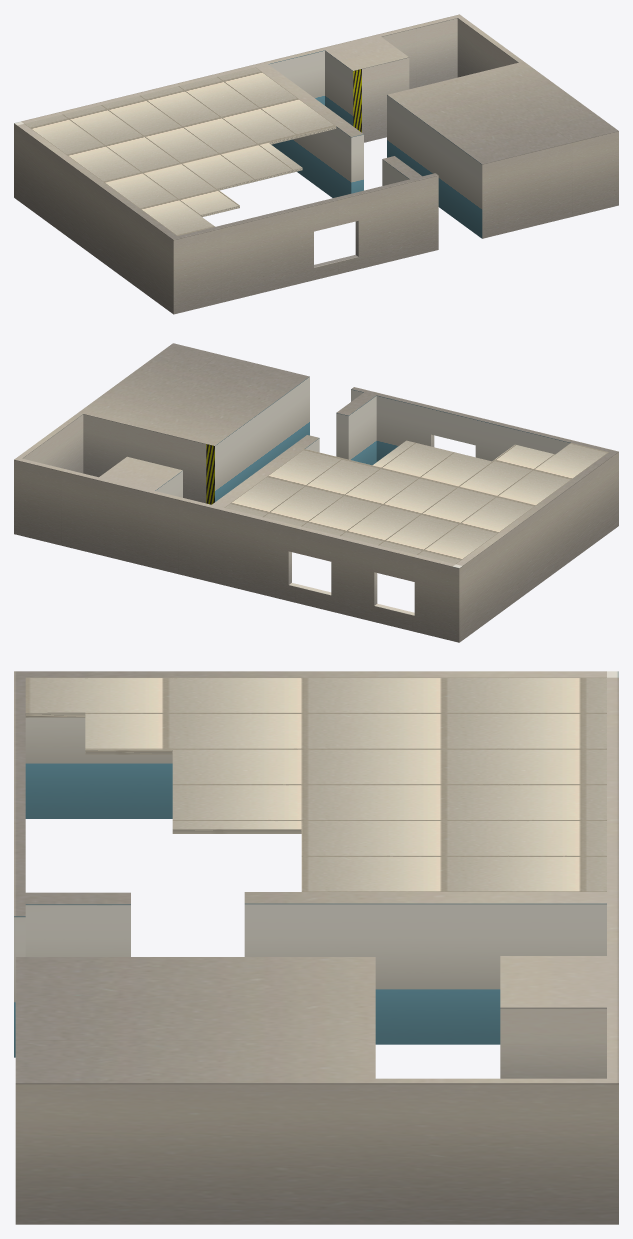
The model's file is Laboratory.FBX.
The picture shows the model from 3 angles, top to bottom: view 1: azimuth 30°, elevation 25°; view 2: azimuth 150°, elevation 25°; view 3: azimuth 270°, elevation 25°; orthographic projection. The views are drawn at different scales.
Visible parts, largest first — view 1: LabWalls, LabCeiling; view 2: LabWalls, LabCeiling; view 3: LabWalls, LabCeiling.
Boxes of the visible parts, bbox=[...] form: LabWalls: bbox=[14, 14, 618, 314]; LabCeiling: bbox=[24, 67, 336, 235]; LabWalls: bbox=[14, 343, 618, 642]; LabCeiling: bbox=[224, 440, 608, 564]; LabWalls: bbox=[14, 671, 618, 1224]; LabCeiling: bbox=[25, 677, 606, 891].
Bounding box in the file's own units: 866 × 138 × 537.
